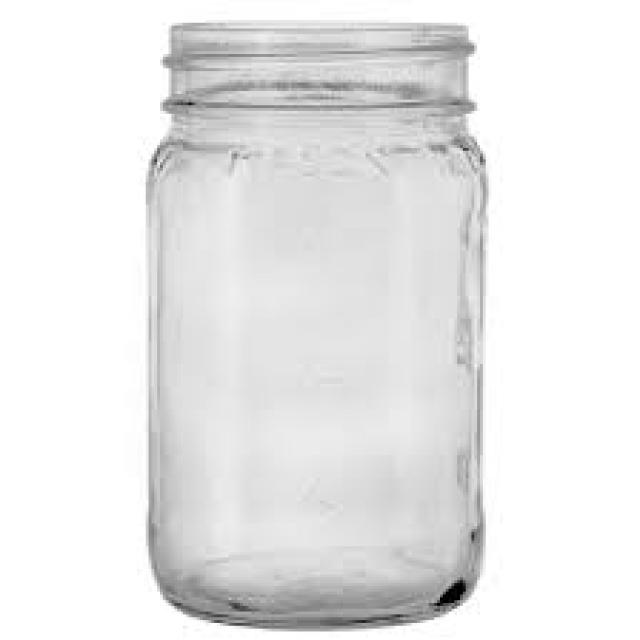glass: (143, 20, 486, 629)
